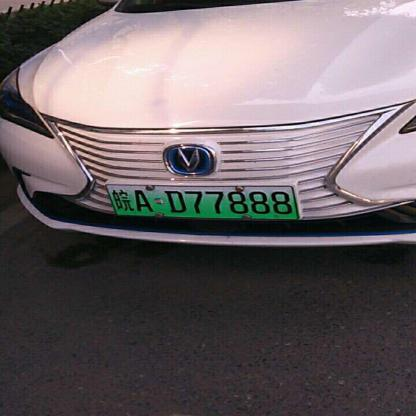lp: (105, 184, 297, 219)
